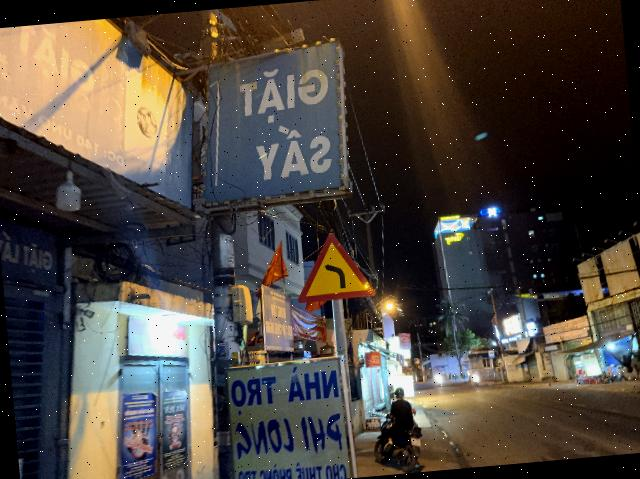cho-ngoat-nguy-hiem-ben-phai: (292, 228, 376, 302)
